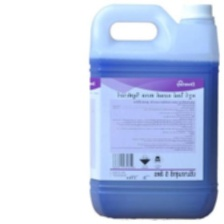cleaning_solution: (86, 0, 222, 221)
